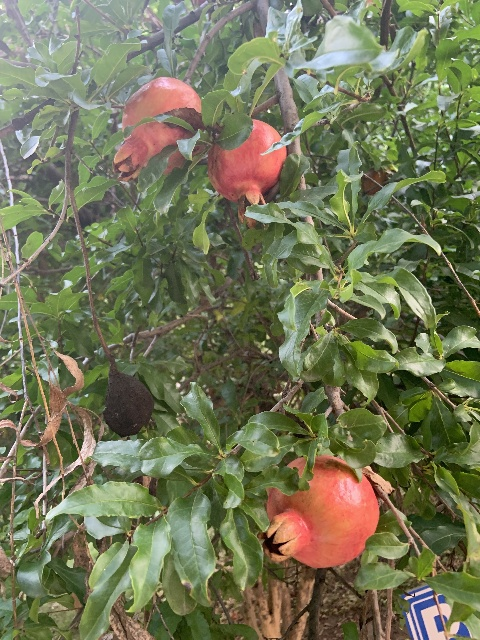ripe: (257, 455, 379, 569), (112, 76, 201, 182), (207, 119, 286, 228)
